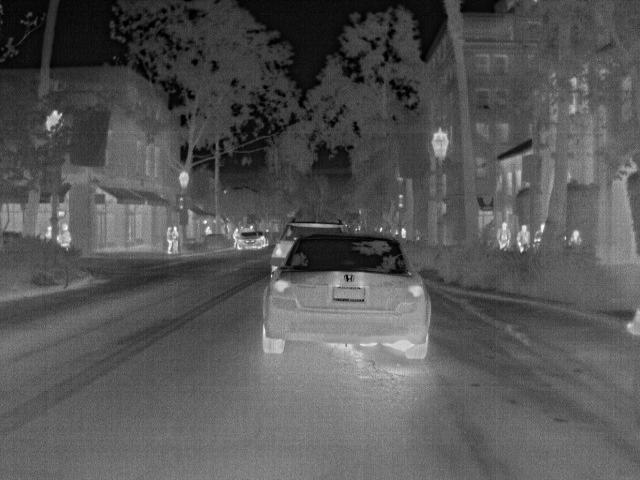car: (260, 232, 430, 364), (268, 220, 348, 283), (236, 230, 269, 250)
person: (517, 221, 533, 254), (496, 218, 511, 252), (56, 224, 74, 250), (163, 224, 176, 253), (566, 228, 583, 246)
